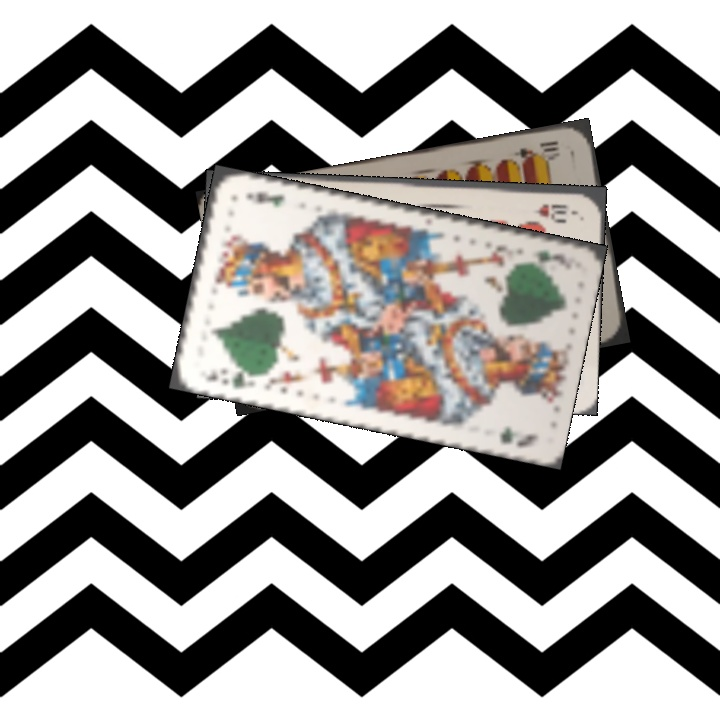E10: (510, 136, 562, 165)
GK: (198, 366, 257, 391), (520, 246, 560, 266)
H10: (529, 200, 571, 219)
